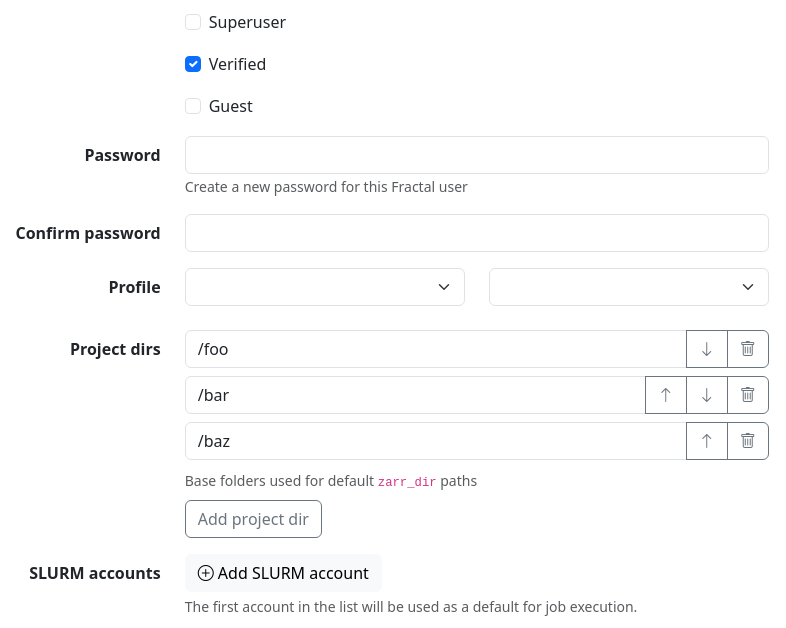
Test case: UserEditor › Update settings - move project dir down
Click the 1st button named "Move project dir down" at [707, 349], box [686, 330, 728, 368]
(page scrolled)
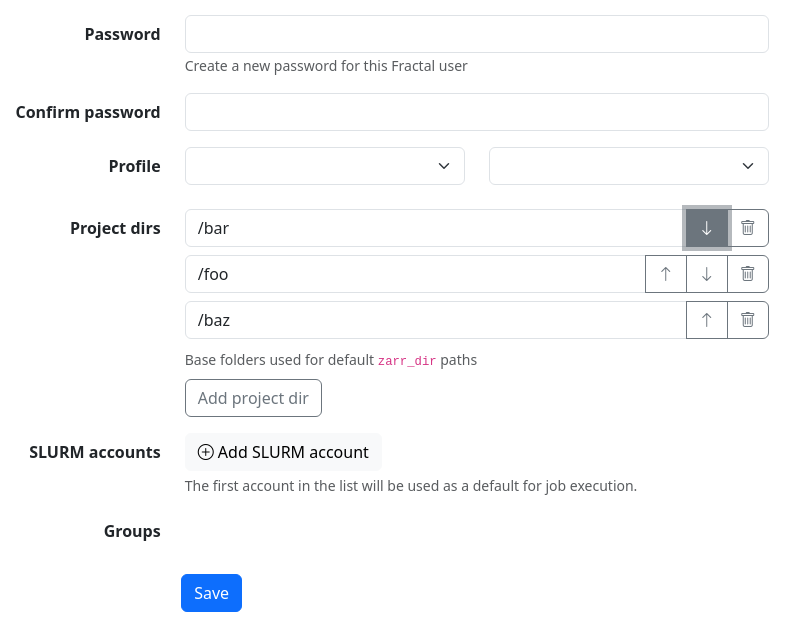
Click the button "Save" at [212, 593], box [181, 574, 242, 612]
(page scrolled)
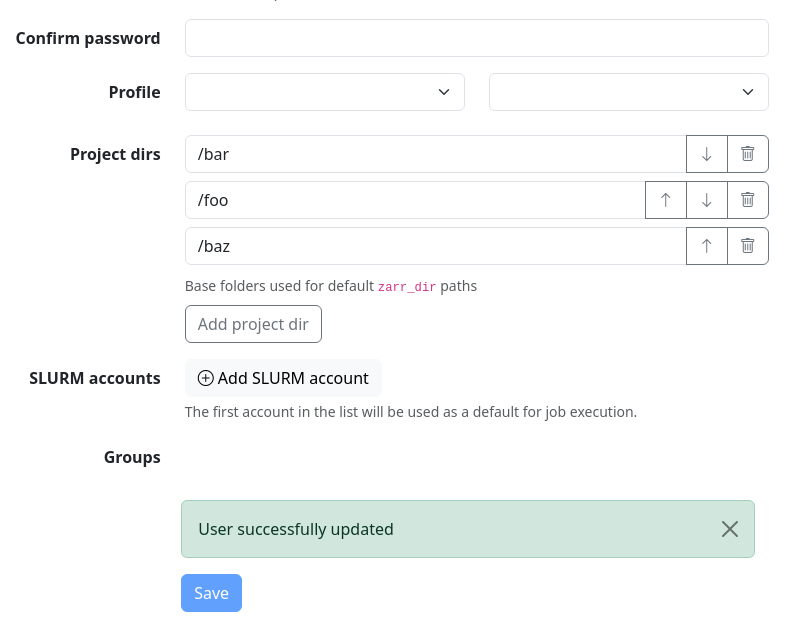
Check: the text "User successfully updated" is shown, box [181, 500, 755, 558]
